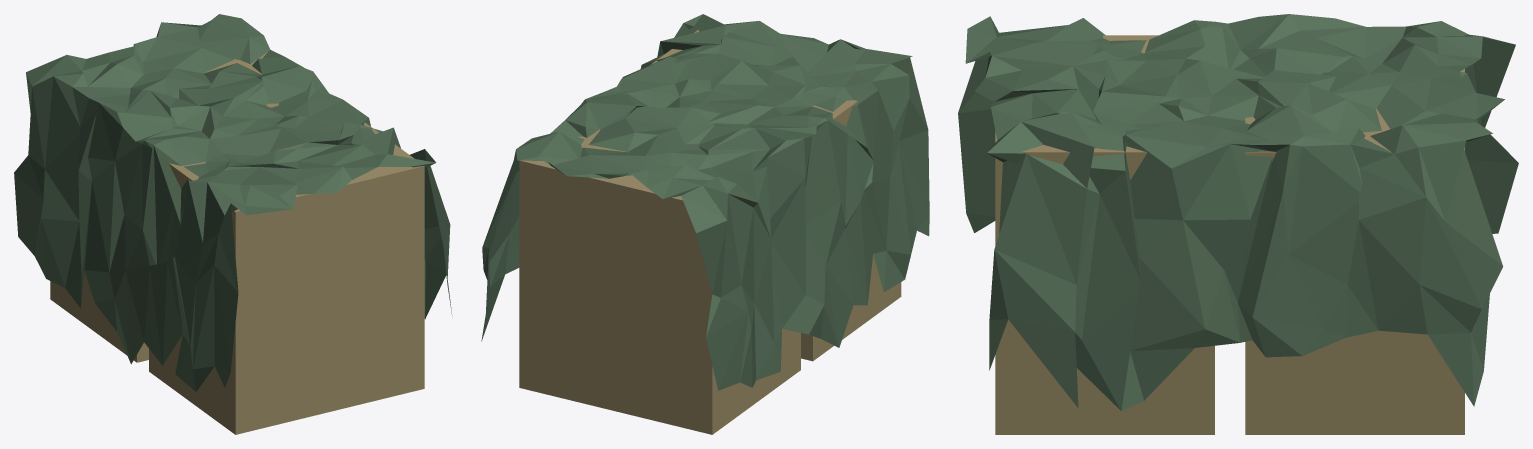
The model's file is piece-load.dae.
3 renders of one model, left to right at view 1: azimuth 30°, elevation 25°; view 2: azimuth 150°, elevation 25°; view 3: azimuth 270°, elevation 25°, orthographic. The views are drawn at different scales.
Parts seen in each view (by area): view 1: Plane, Cube_001, Cube_004, Cube_002; view 2: Plane, Cube_005, Cube_002, Cube_001, Cube_004; view 3: Plane, Cube_002, Cube_001, Cube_004, Cube_005.
Boxes of the visible parts, x1=… form: Plane: x1=14, y1=14, x2=452, y2=391; Cube_001: x1=149, y1=267, x2=424, y2=434; Cube_004: x1=169, y1=122, x2=424, y2=333; Cube_002: x1=50, y1=271, x2=148, y2=362; Plane: x1=481, y1=14, x2=929, y2=390; Cube_005: x1=519, y1=129, x2=715, y2=330; Cube_002: x1=519, y1=285, x2=800, y2=434; Cube_001: x1=801, y1=254, x2=901, y2=361; Cube_004: x1=650, y1=29, x2=857, y2=126; Plane: x1=958, y1=14, x2=1518, y2=410; Cube_002: x1=1245, y1=330, x2=1464, y2=434; Cube_001: x1=995, y1=319, x2=1214, y2=434; Cube_004: x1=995, y1=35, x2=1158, y2=245; Cube_005: x1=1245, y1=35, x2=1464, y2=161.
Bounding box in the file's own units: 1.35 × 2.08 × 1.23.
